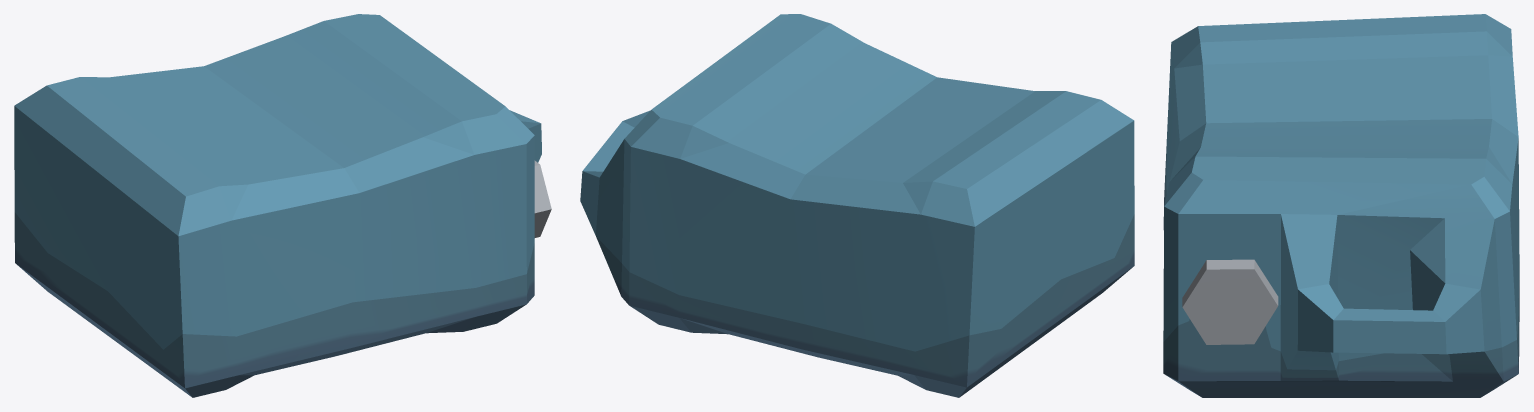
Rendered from SM_Prop_Container_04.obj.
3 views of the same model, side by side, from view 1: azimuth 30°, elevation 25°; view 2: azimuth 150°, elevation 25°; view 3: azimuth 270°, elevation 25° (orthographic). The views are drawn at different scales.
Parts seen in each view (by area): view 1: SM_Prop_Container_04_0; view 2: SM_Prop_Container_04_0; view 3: SM_Prop_Container_04_0.
Part boxes in pixels (bbox=[...]): SM_Prop_Container_04_0: bbox=[14, 14, 551, 397]; SM_Prop_Container_04_0: bbox=[580, 14, 1134, 397]; SM_Prop_Container_04_0: bbox=[1163, 14, 1519, 397].
Bounding box in the file's own units: 0.3272 × 0.1483 × 0.2185.
Materials: 1 (1 with a texture image).
